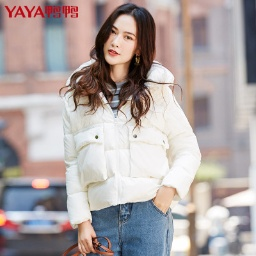face: (73, 3, 164, 112)
